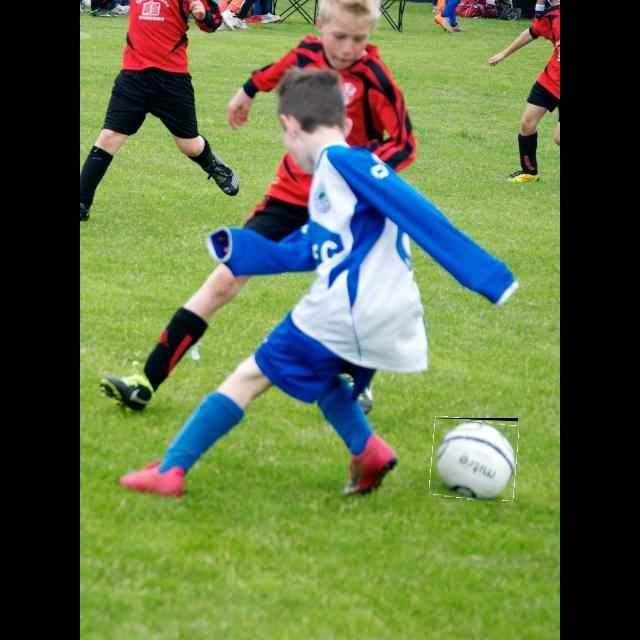Football: (430, 418, 518, 500)
